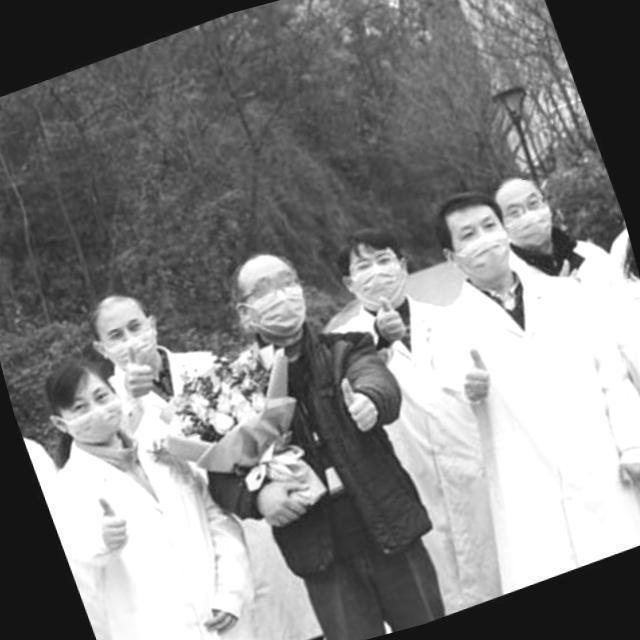no_apron: (324, 362, 384, 444), (255, 474, 318, 538), (122, 342, 164, 402), (98, 502, 136, 564), (458, 343, 494, 403), (607, 439, 640, 503), (373, 292, 409, 350), (195, 604, 248, 640)
